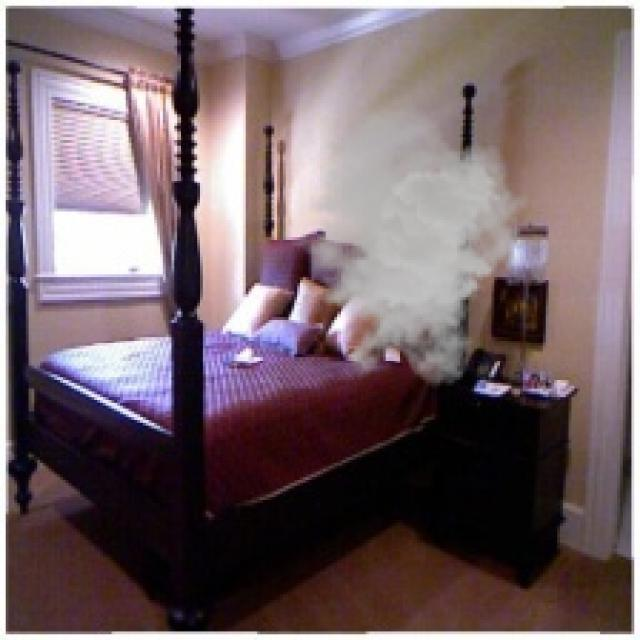Smoke: (280, 105, 529, 388)
